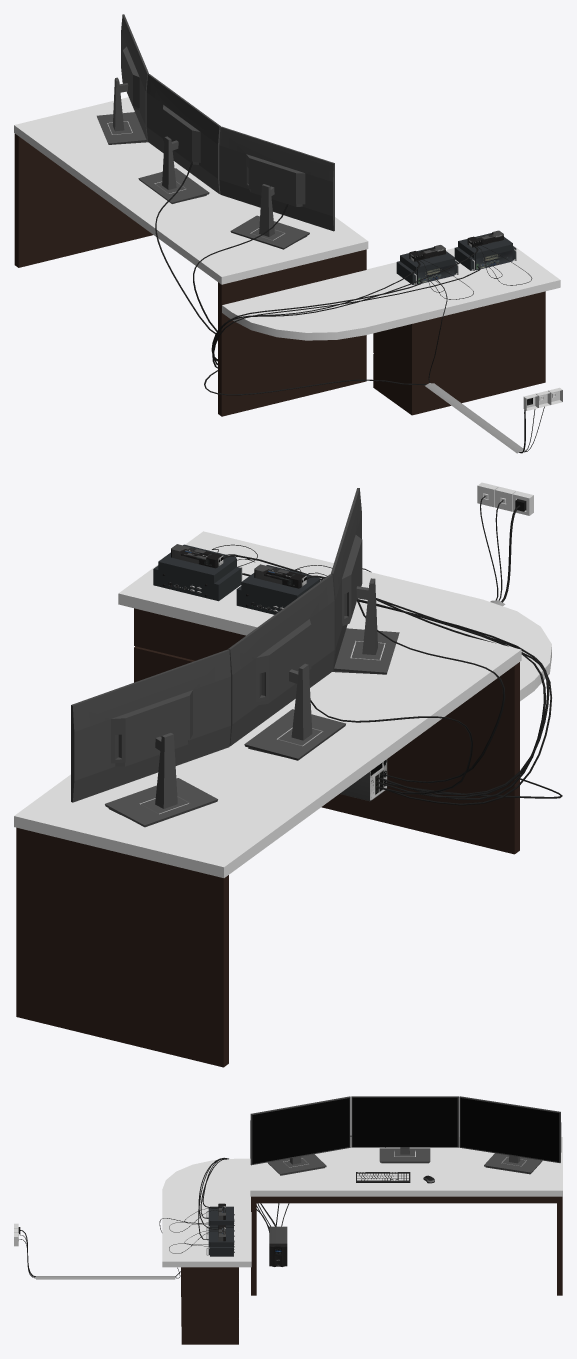
The model's file is stol (5).fbx.
3 views of the same model, one above another, from view 1: azimuth 30°, elevation 25°; view 2: azimuth 150°, elevation 25°; view 3: azimuth 270°, elevation 25° (orthographic). The views are drawn at different scales.
Parts seen in each view (by area): view 1: table.003, group_0.003, group_0.002, group_0.001, ER-DS400-A1, ER-DS400-A1.001, Plane; view 2: table.003, group_0.001, group_0.002, group_0.003, ER-DS400-A1, ER-DS400-A1.001, ups smt1500, NurbsPath.003, NurbsPath.004, NurbsPath.005, NurbsPath.002, NurbsPath (+3 smaller); view 3: table.003, group_0.002, group_0.001, group_0.003, ups smt1500, ER-DS400-A1, Plane.027, Plane, ER-DS400-A1.001.
Boxes of the visible parts, x1,y1,x2,y2 form: table.003: [14, 97, 560, 416]; group_0.003: [219, 126, 334, 249]; group_0.002: [138, 74, 220, 203]; group_0.001: [97, 14, 148, 144]; ER-DS400-A1: [454, 233, 516, 270]; ER-DS400-A1.001: [396, 247, 458, 284]; Plane: [425, 383, 526, 453]; table.003: [14, 531, 551, 1067]; group_0.001: [71, 649, 230, 827]; group_0.002: [228, 574, 345, 760]; group_0.003: [331, 488, 399, 674]; ER-DS400-A1: [153, 544, 242, 601]; ER-DS400-A1.001: [236, 565, 320, 614]; ups smt1500: [340, 759, 387, 801]; NurbsPath.003: [242, 573, 551, 805]; NurbsPath.004: [306, 575, 548, 795]; NurbsPath.005: [223, 555, 549, 797]; NurbsPath.002: [358, 599, 545, 799]; NurbsPath: [357, 599, 505, 783]; table.003: [162, 1137, 562, 1344]; group_0.002: [351, 1096, 458, 1163]; group_0.001: [459, 1096, 561, 1174]; group_0.003: [250, 1096, 350, 1175]; ups smt1500: [269, 1226, 287, 1266]; ER-DS400-A1: [206, 1228, 234, 1256]; Plane.027: [356, 1172, 410, 1182]; Plane: [36, 1276, 175, 1279]; ER-DS400-A1.001: [206, 1206, 234, 1234].
Size of the model in its own units: 245 by 175 by 512.
